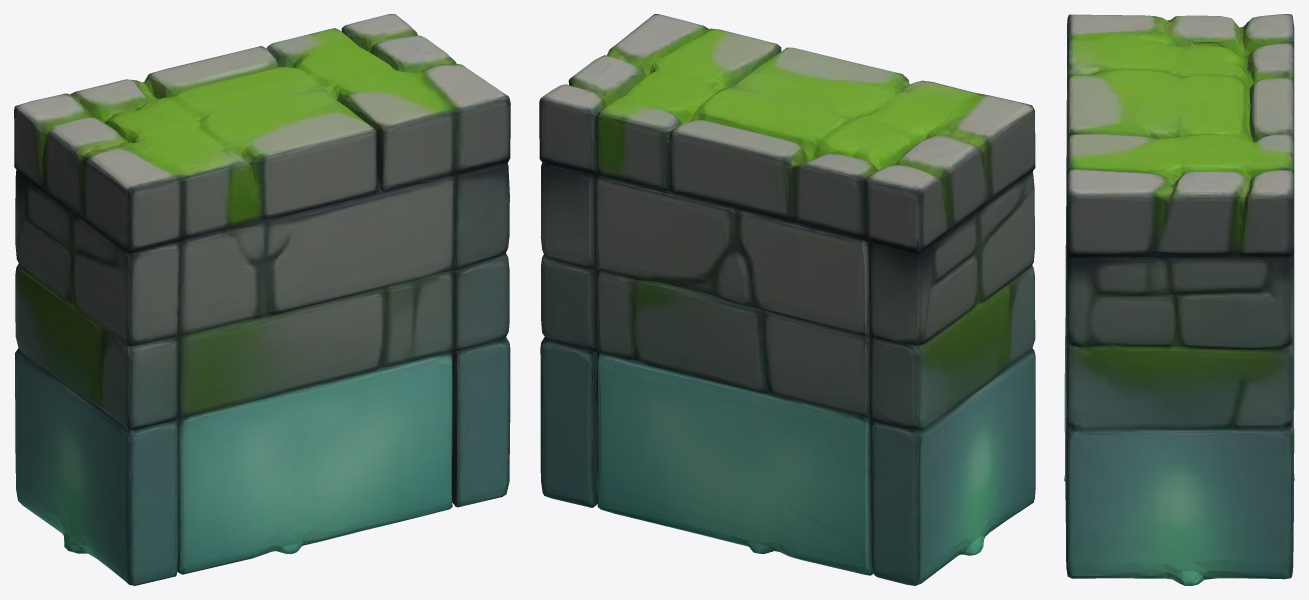
File: tile_stonegrassy-2.glb
3 views of the same model, side by side, from view 1: azimuth 30°, elevation 25°; view 2: azimuth 150°, elevation 25°; view 3: azimuth 270°, elevation 25° (orthographic). The views are drawn at different scales.
Visible parts, largest first — view 1: world; view 2: world; view 3: world.
Part boxes in pixels (x1,y1,x2,y2): world: (14,14,510,585); world: (539,14,1035,585); world: (1064,14,1294,585).
Bounding box in the file's own units: 0.4919 × 0.492 × 0.2612.
Materials: 1 (1 with a texture image).
